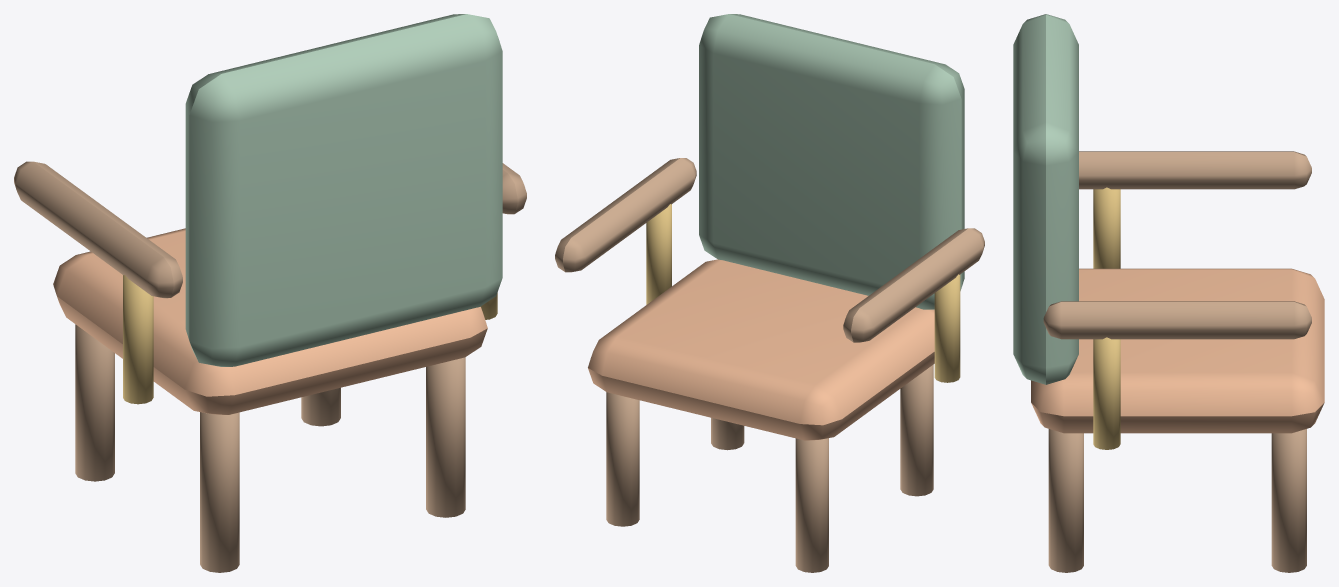
File: Seat.fbx
3 renders of one model, left to right at view 1: azimuth 30°, elevation 25°; view 2: azimuth 150°, elevation 25°; view 3: azimuth 270°, elevation 25°, orthographic. The views are drawn at different scales.
Visible parts, largest first — view 1: Seat_Sage, Seat_Wood, Seat_Apricot, Seat_Gold; view 2: Seat_Sage, Seat_Apricot, Seat_Wood, Seat_Gold; view 3: Seat_Apricot, Seat_Wood, Seat_Sage, Seat_Gold.
Boxes of the visible parts, x1,y1,x2,y2 form: Seat_Sage: (185, 14, 502, 366); Seat_Wood: (14, 161, 526, 572); Seat_Apricot: (53, 228, 487, 414); Seat_Gold: (123, 275, 497, 404); Seat_Sage: (699, 14, 964, 309); Seat_Apricot: (588, 259, 934, 440); Seat_Wood: (555, 158, 984, 572); Seat_Gold: (646, 204, 960, 382); Seat_Apricot: (1031, 268, 1324, 433); Seat_Wood: (1043, 151, 1311, 572); Seat_Sage: (1013, 14, 1078, 384); Seat_Gold: (1093, 187, 1120, 449).
Bounding box in the file's own units: 77 × 97.5 × 61.5.
